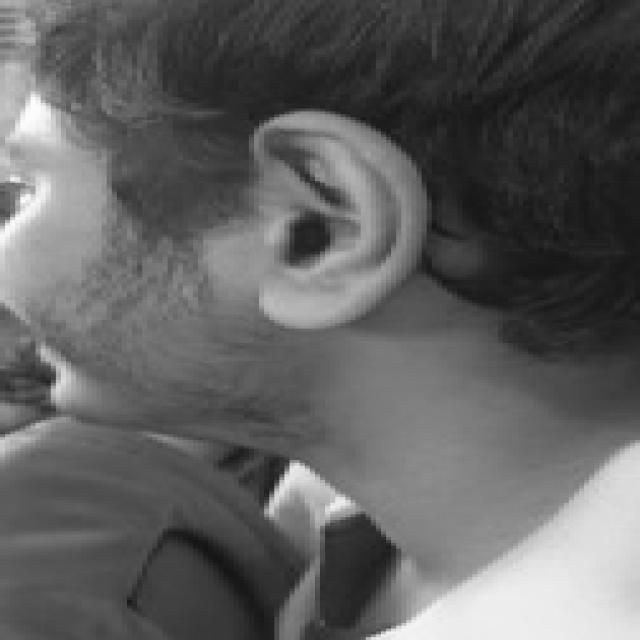ear: (254, 111, 427, 326)
